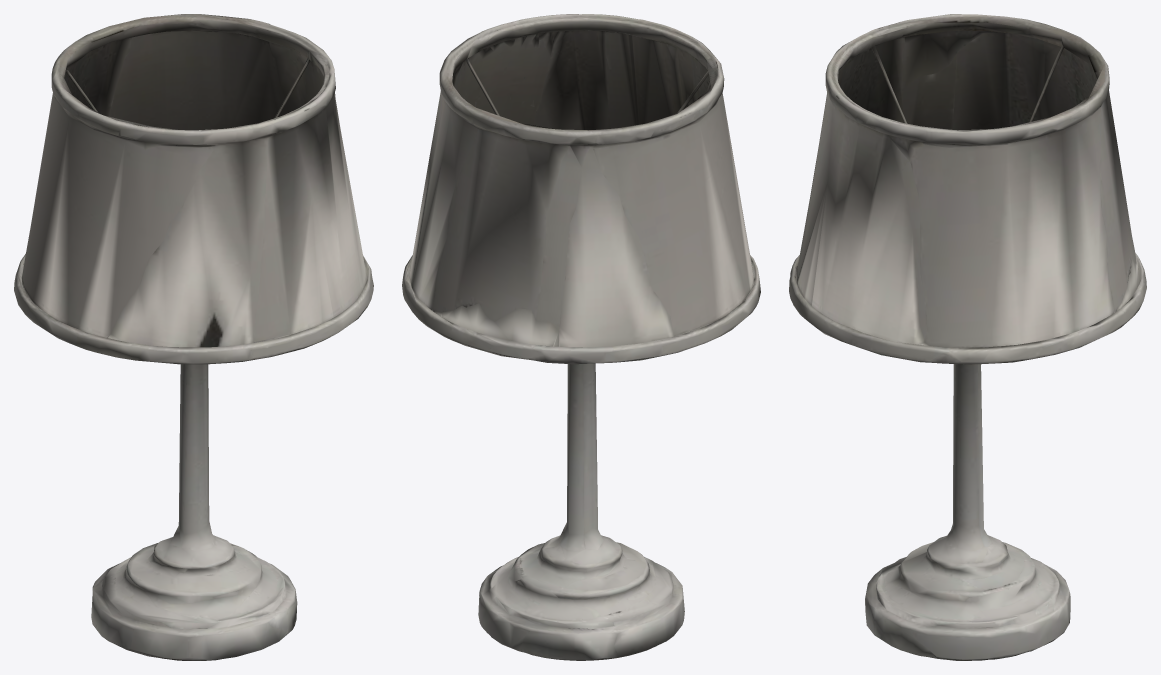
The model's file is lamp-shade-lite.glb.
3 views of the same model, side by side, from view 1: azimuth 30°, elevation 25°; view 2: azimuth 150°, elevation 25°; view 3: azimuth 270°, elevation 25° (orthographic).
Visible parts, largest first — view 1: node_0; view 2: node_0; view 3: node_0.
Part boxes in pixels (<box>): node_0: <box>14,14,373,660</box>; node_0: <box>402,14,760,660</box>; node_0: <box>789,14,1146,660</box>.
Size of the model in its own units: 0.6477 by 1.09 by 0.6444.
Materials: 1 (1 with a texture image).
